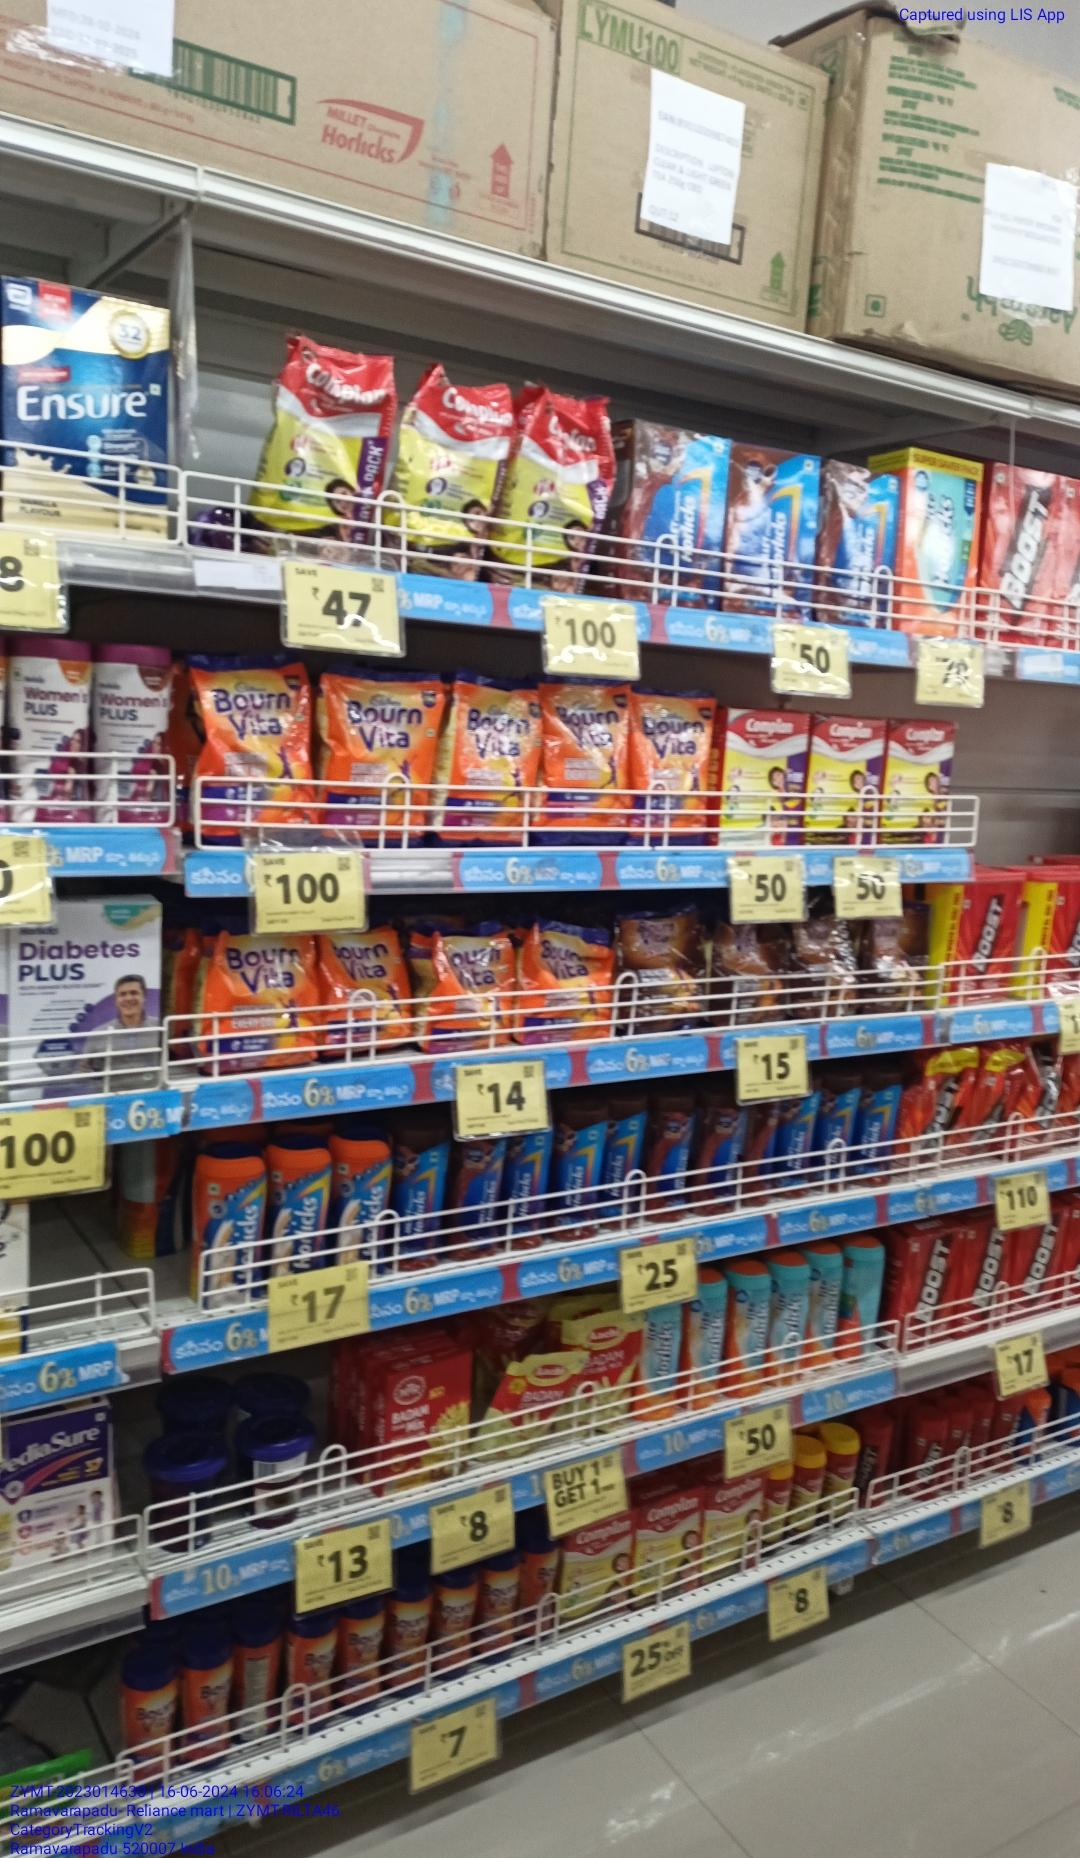ENSURE_VANILLA_400_G_PACK: (5, 276, 170, 531)
HORLICKS_LITE_REGULAR_MALT_500_GM_JAR: (685, 1269, 726, 1408), (730, 1260, 769, 1400), (640, 1301, 683, 1429), (771, 1249, 807, 1384), (810, 1245, 842, 1369)
